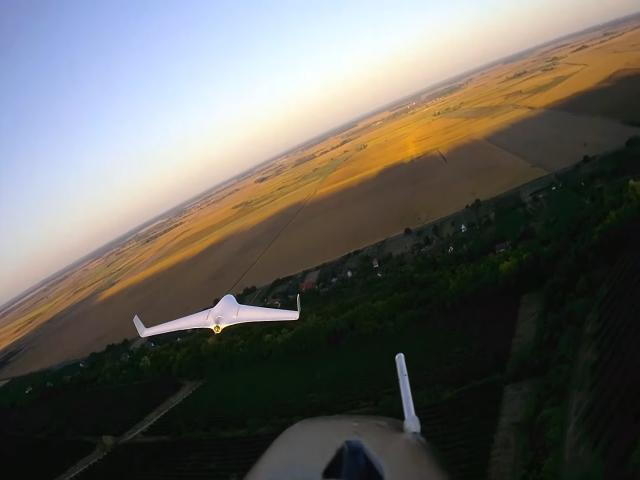plane: (135, 293, 301, 340)
